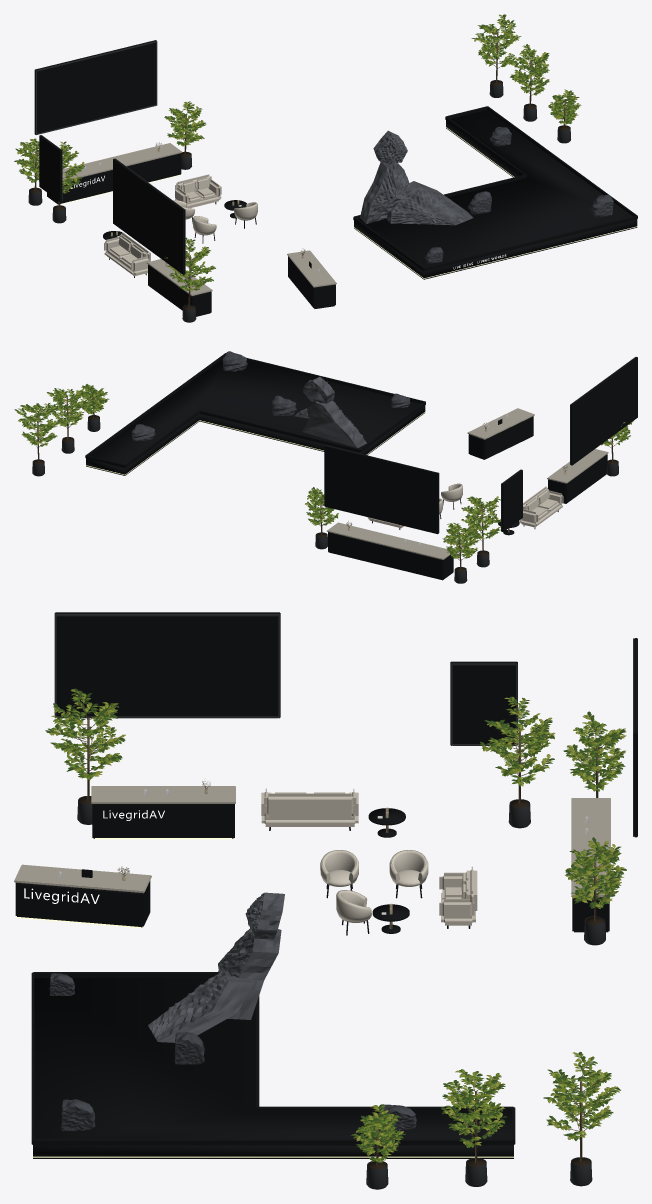
The model's file is grand-anamorphic-shape-v2-interior.glb.
3 renders of one model, top to bottom at view 1: azimuth 30°, elevation 25°; view 2: azimuth 150°, elevation 25°; view 3: azimuth 270°, elevation 25°, orthographic. The views are drawn at different scales.
Parts seen in each view (by area): view 1: grand-anamorphic-shape-v2-interior | basin | Reception | bla, grand-anamorphic-shape-v2-interior | rear-service-gallery-sc (×2), grand-anamorphic-shape-v2-interior | botanical | Content Stu (×2), grand-anamorphic-shape-v2-interior | natural-rocks | Anamorp, grand-anamorphic-shape-v2-interior | rear-gallery-screen | R, grand-anamorphic-shape-v2-interior | rear-service-counter |  (×2), grand-anamorphic-shape-v2-interior | left-consultation-servi (×2), grand-anamorphic-shape-v2-interior | rear-lounge | Reception, grand-anamorphic-shape-v2-interior | inner-consultation | Re, grand-anamorphic-shape-v2-interior | botanical | Reception |, grand-anamorphic-shape-v2-interior | side-gallery-screen | R, grand-anamorphic-shape-v2-interior | front-reception | Recep (+2 smaller); view 2: grand-anamorphic-shape-v2-interior | basin | Reception | bla, grand-anamorphic-shape-v2-interior | rear-service-gallery-sc, grand-anamorphic-shape-v2-interior | botanical | Content Stu (×2), grand-anamorphic-shape-v2-interior | rear-gallery-screen | R, grand-anamorphic-shape-v2-interior | rear-service-counter |  (×2), grand-anamorphic-shape-v2-interior | natural-rocks | Anamorp, grand-anamorphic-shape-v2-interior | left-consultation-servi (×2), grand-anamorphic-shape-v2-interior | rear-lounge | Reception, grand-anamorphic-shape-v2-interior | front-reception | Recep, grand-anamorphic-shape-v2-interior | botanical | Reception |, grand-anamorphic-shape-v2-interior | side-gallery-screen | R, grand-anamorphic-shape-v2-interior | front-reception | Conte (+1 smaller); view 3: grand-anamorphic-shape-v2-interior | basin | Reception | bla, grand-anamorphic-shape-v2-interior | rear-gallery-screen | R (×2), grand-anamorphic-shape-v2-interior | botanical | Content Stu (×2), grand-anamorphic-shape-v2-interior | natural-rocks | Anamorp, grand-anamorphic-shape-v2-interior | left-consultation-servi (×2), grand-anamorphic-shape-v2-interior | rear-lounge | Reception (×2), grand-anamorphic-shape-v2-interior | side-gallery-screen | R, grand-anamorphic-shape-v2-interior | front-reception | Recep, grand-anamorphic-shape-v2-interior | rear-service-counter |  (×2), grand-anamorphic-shape-v2-interior | inner-consultation | Re, grand-anamorphic-shape-v2-interior | botanical | Reception |, grand-anamorphic-shape-v2-interior | front-reception | Conte (+2 smaller).
Boxes of the visible parts, x1,y1,x2,y2 form: grand-anamorphic-shape-v2-interior | basin | Reception | bla: (353, 106, 637, 279); grand-anamorphic-shape-v2-interior | rear-service-gallery-sc (×2): (34, 40, 157, 134); grand-anamorphic-shape-v2-interior | botanical | Content Stu (×2): (14, 14, 581, 307); grand-anamorphic-shape-v2-interior | natural-rocks | Anamorp: (360, 127, 613, 263); grand-anamorphic-shape-v2-interior | rear-gallery-screen | R: (113, 158, 184, 274); grand-anamorphic-shape-v2-interior | rear-service-counter |  (×2): (47, 143, 182, 204); grand-anamorphic-shape-v2-interior | left-consultation-servi (×2): (147, 259, 212, 316); grand-anamorphic-shape-v2-interior | rear-lounge | Reception: (104, 200, 216, 276); grand-anamorphic-shape-v2-interior | inner-consultation | Re: (175, 174, 257, 220); grand-anamorphic-shape-v2-interior | botanical | Reception |: (28, 80, 570, 322); grand-anamorphic-shape-v2-interior | side-gallery-screen | R: (39, 135, 61, 201); grand-anamorphic-shape-v2-interior | front-reception | Recep: (288, 256, 335, 308); grand-anamorphic-shape-v2-interior | basin | Reception | bla: (85, 353, 425, 475); grand-anamorphic-shape-v2-interior | rear-service-gallery-sc: (324, 445, 438, 534); grand-anamorphic-shape-v2-interior | botanical | Content Stu (×2): (14, 384, 633, 569); grand-anamorphic-shape-v2-interior | rear-gallery-screen | R: (570, 357, 637, 465); grand-anamorphic-shape-v2-interior | rear-service-counter |  (×2): (327, 522, 453, 580); grand-anamorphic-shape-v2-interior | natural-rocks | Anamorp: (131, 351, 410, 448); grand-anamorphic-shape-v2-interior | left-consultation-servi (×2): (547, 449, 608, 503); grand-anamorphic-shape-v2-interior | rear-lounge | Reception: (439, 484, 563, 527); grand-anamorphic-shape-v2-interior | front-reception | Recep: (468, 416, 533, 459); grand-anamorphic-shape-v2-interior | botanical | Reception |: (32, 415, 618, 583); grand-anamorphic-shape-v2-interior | side-gallery-screen | R: (501, 469, 522, 531); grand-anamorphic-shape-v2-interior | front-reception | Conte: (467, 408, 534, 439); grand-anamorphic-shape-v2-interior | basin | Reception | bla: (31, 972, 515, 1158); grand-anamorphic-shape-v2-interior | rear-gallery-screen | R (×2): (54, 612, 280, 718); grand-anamorphic-shape-v2-interior | botanical | Content Stu (×2): (45, 688, 626, 1165); grand-anamorphic-shape-v2-interior | natural-rocks | Anamorp: (49, 892, 416, 1131); grand-anamorphic-shape-v2-interior | left-consultation-servi (×2): (91, 786, 235, 838); grand-anamorphic-shape-v2-interior | rear-lounge | Reception (×2): (261, 788, 428, 898); grand-anamorphic-shape-v2-interior | side-gallery-screen | R: (450, 661, 517, 744); grand-anamorphic-shape-v2-interior | front-reception | Recep: (15, 869, 150, 927); grand-anamorphic-shape-v2-interior | rear-service-counter |  (×2): (571, 798, 610, 932); grand-anamorphic-shape-v2-interior | inner-consultation | Re: (336, 866, 477, 925); grand-anamorphic-shape-v2-interior | botanical | Reception |: (77, 796, 605, 1189); grand-anamorphic-shape-v2-interior | front-reception | Conte: (14, 864, 151, 893).
Bounding box in the file's own units: 23.58 × 5.45 × 15.76.
18 materials, 1 textured.
